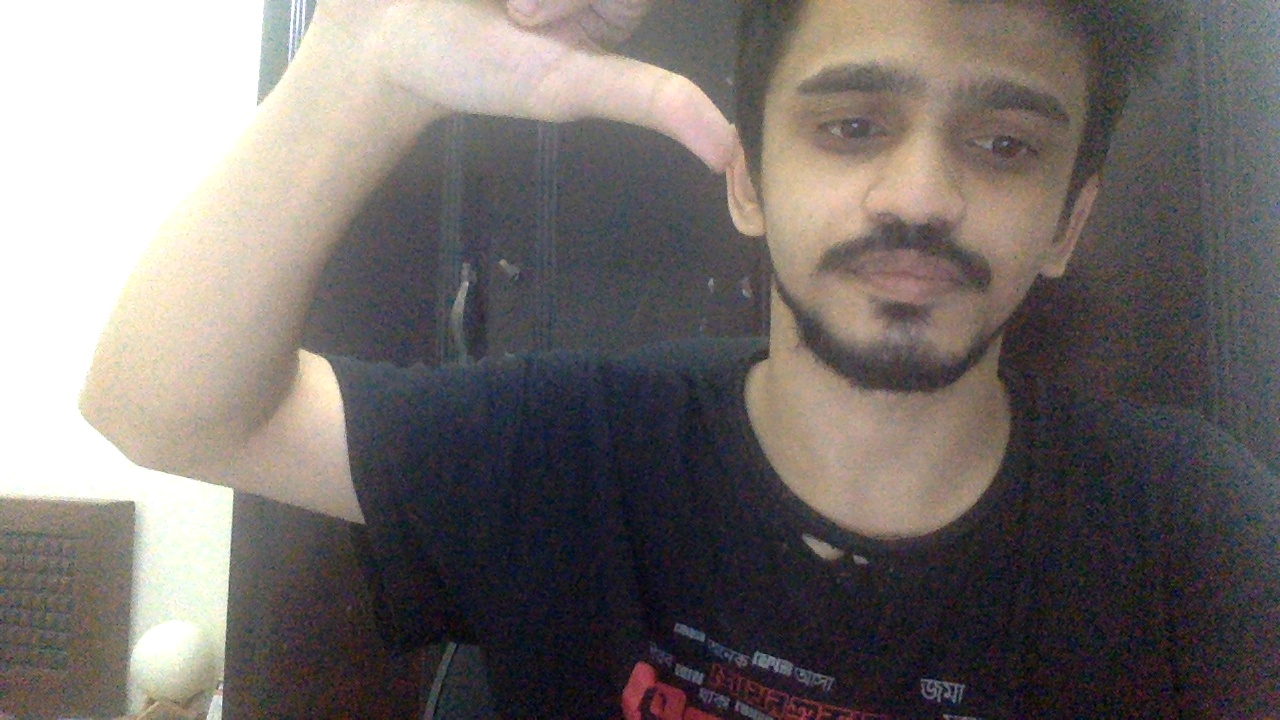bad: (318, 2, 739, 173)
